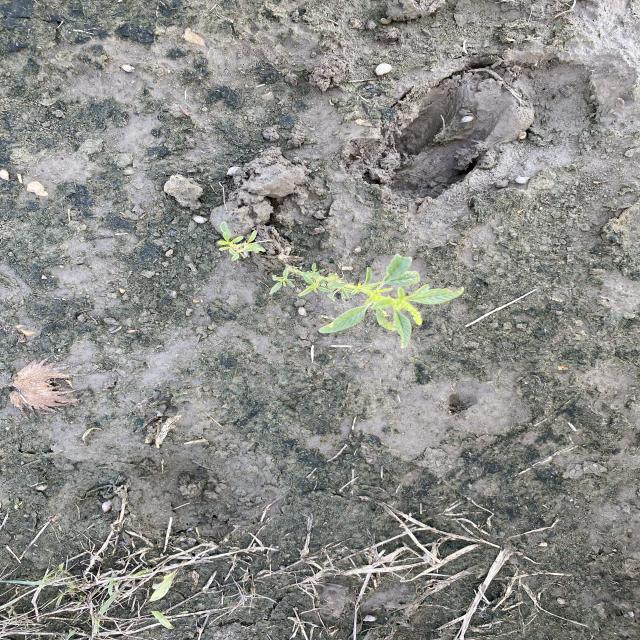Waterhemp: (266, 252, 468, 350), (216, 219, 279, 264)
